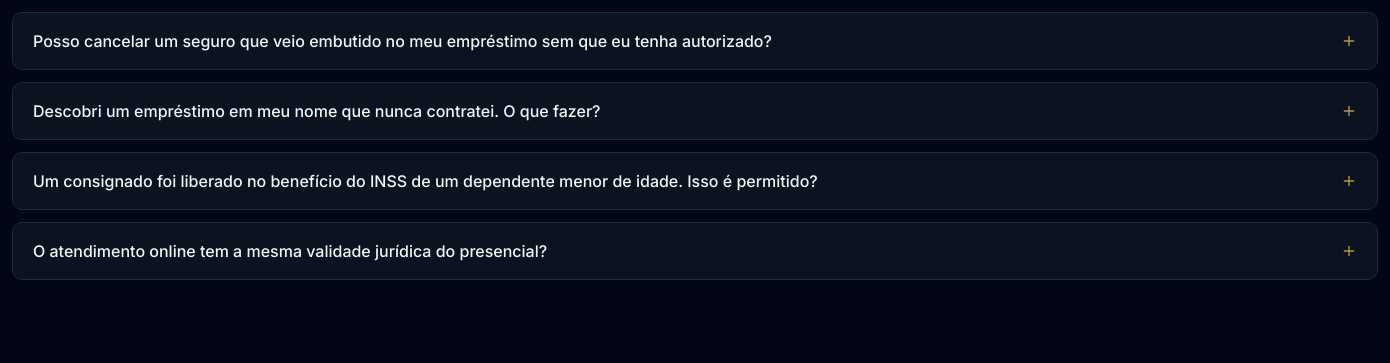
Test case: Faq › clicar de novo na mesma pergunta fecha a resposta
Click the button named "Posso cancelar um seguro que veio embutido no meu empréstimo sem que eu tenha autorizado?". click: (695, 41)
box: [13, 13, 1377, 69]
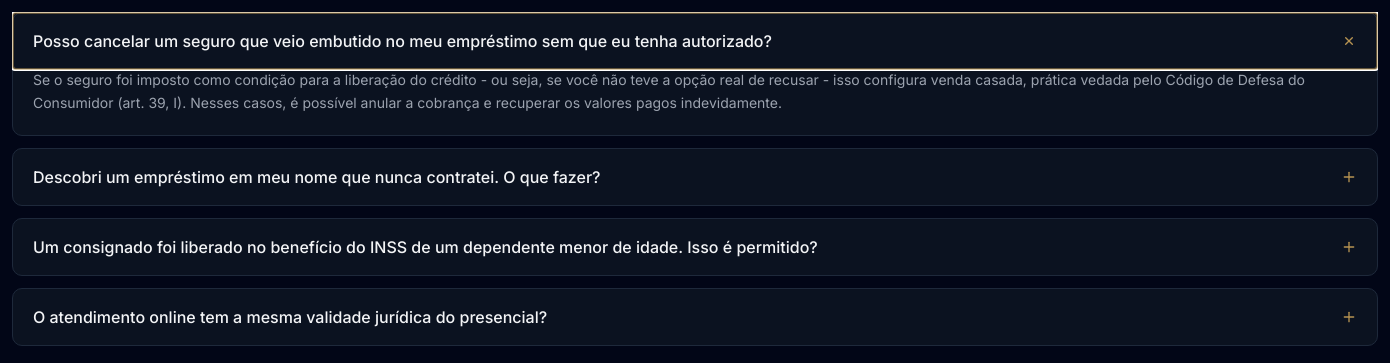
Result: the text "Se o seguro foi imposto como condição" is shown at [33, 71, 1305, 111]
Click the button named "Posso cancelar um seguro que veio embutido no meu empréstimo sem que eu tenha autorizado?". click: (695, 41)
box: [13, 13, 1377, 69]
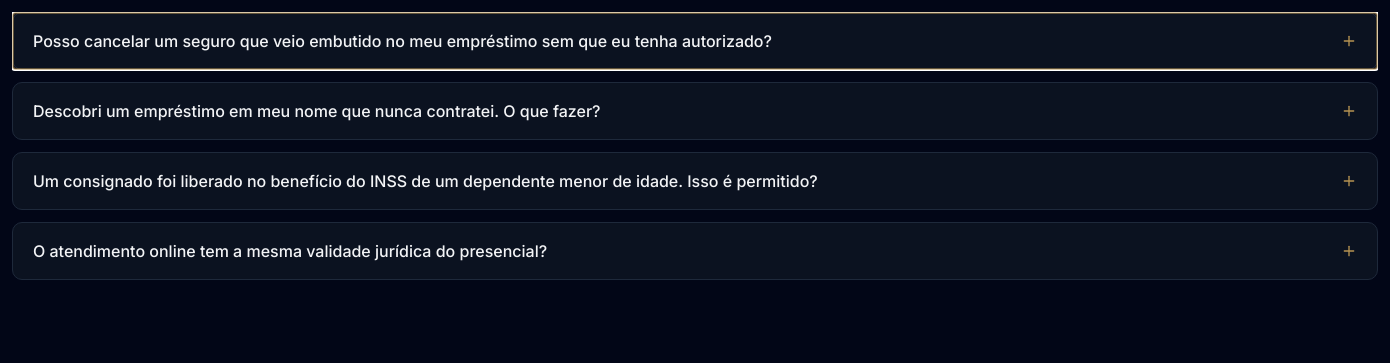
Result: the text "Se o seguro foi imposto como condição" is gone
